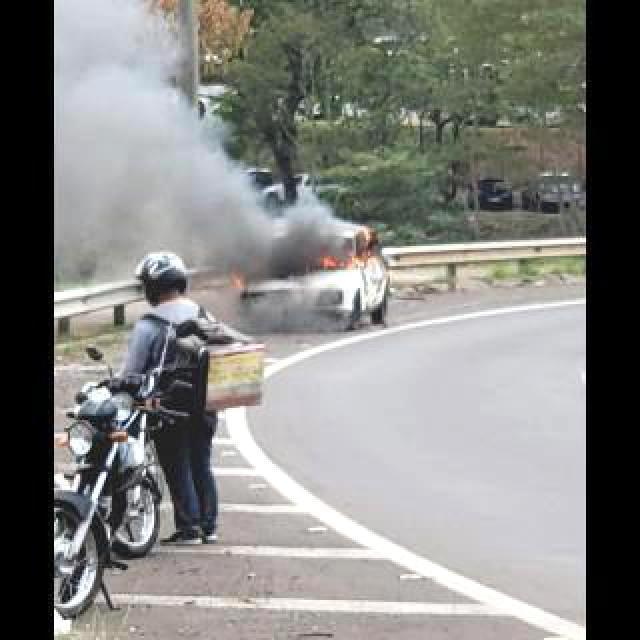Smoke: (55, 0, 369, 272)
